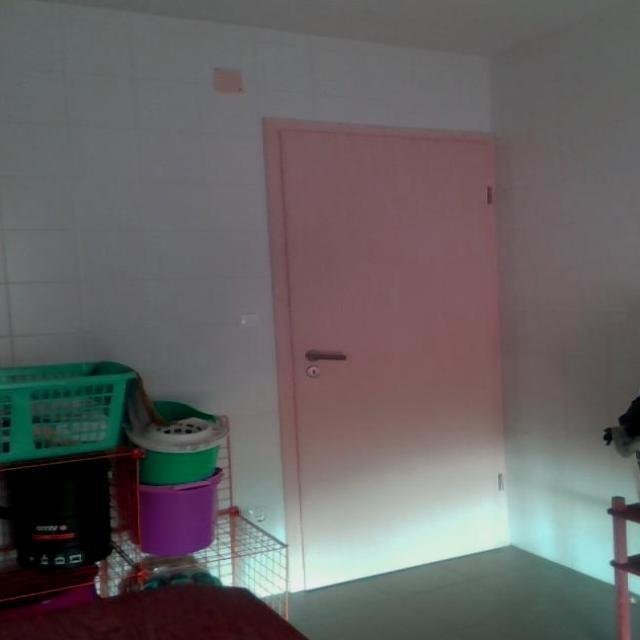door: (262, 116, 511, 592)
